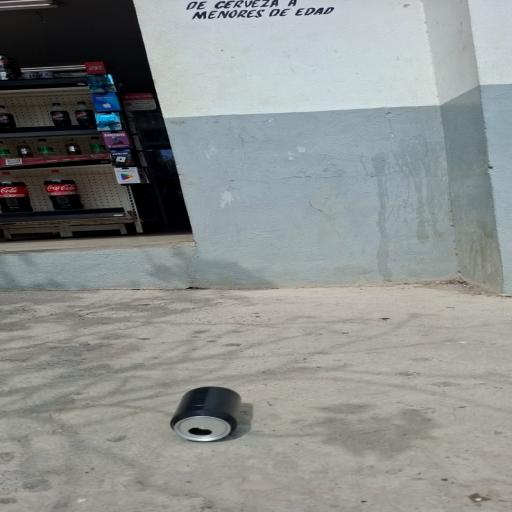LATA: (150, 382, 262, 449)
